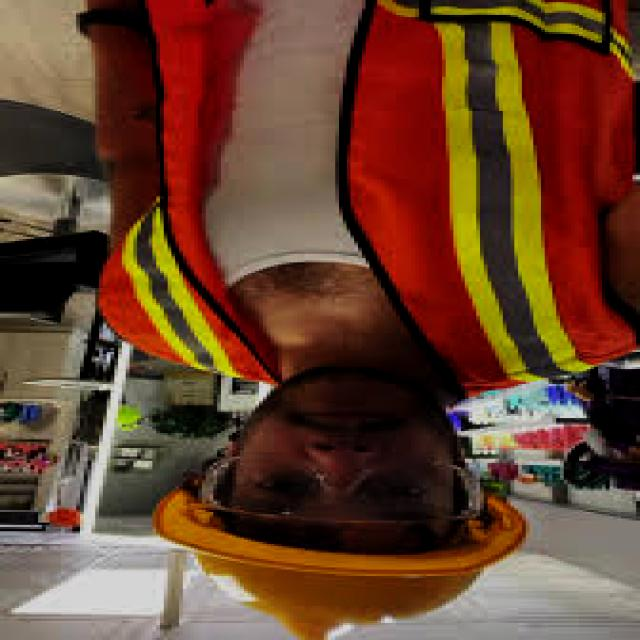Hard Hat: (144, 488, 550, 640)
Reflective Vest: (81, 1, 640, 398)
Safety Glasses: (182, 461, 511, 513)
